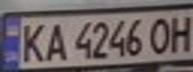2: (90, 17, 112, 60)
4: (69, 18, 93, 61), (109, 16, 130, 58)
6: (124, 16, 151, 57)
A: (39, 19, 69, 63)
H: (166, 12, 193, 53)
K: (15, 19, 48, 64)
O: (145, 15, 175, 55)
